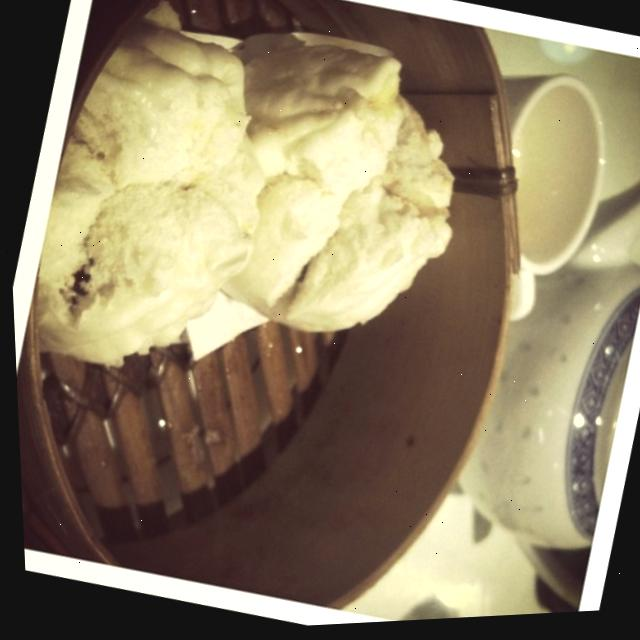带馅早点: (0, 0, 562, 635)
